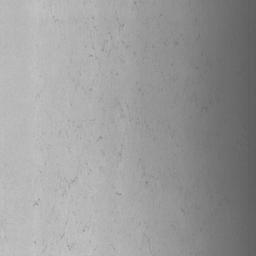Silk spot: (101, 40, 111, 56), (66, 176, 78, 189)
